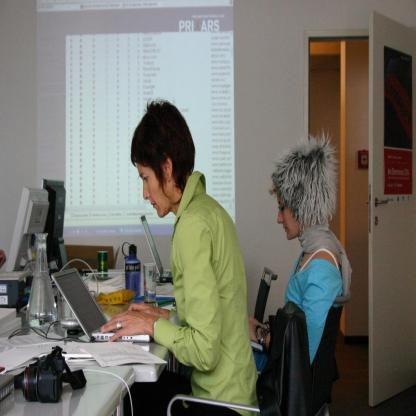board: (51, 266, 150, 341), (140, 216, 173, 280), (97, 250, 109, 280)
